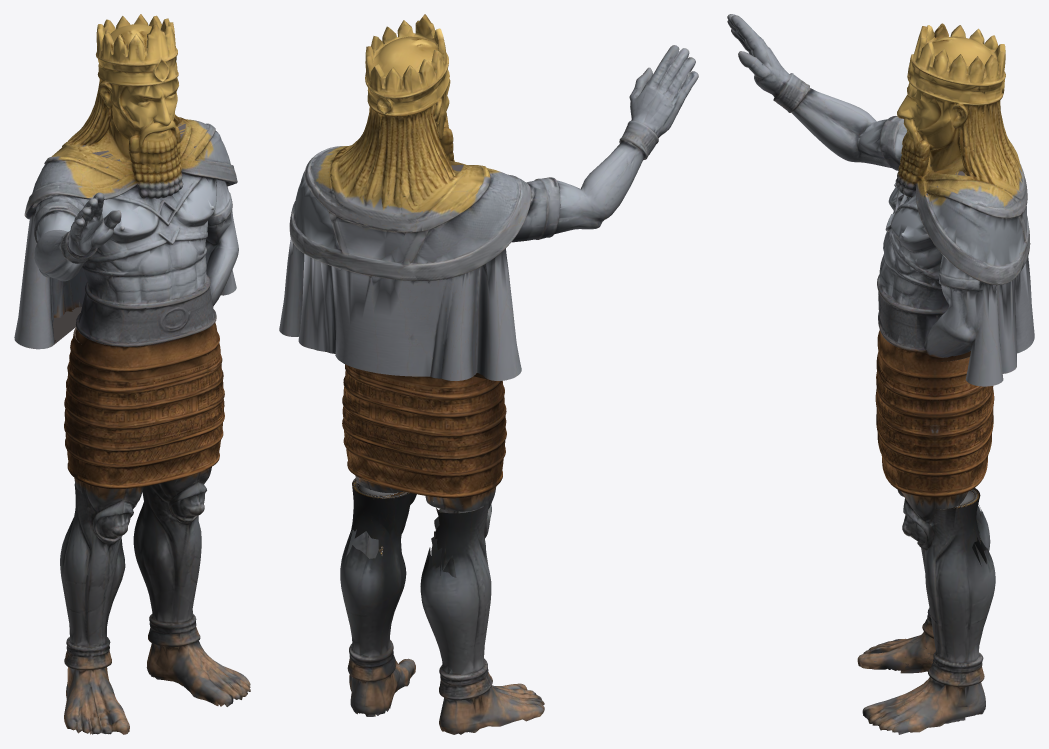
Rendered from statue_hd.glb.
The picture shows the model from 3 angles, left to right: view 1: azimuth 30°, elevation 25°; view 2: azimuth 150°, elevation 25°; view 3: azimuth 270°, elevation 25°; orthographic projection. The views are drawn at different scales.
Parts seen in each view (by area): view 1: chest_silver, belly_bronze, legs_iron, head_gold, feet_clay, chest_silver_cap; view 2: chest_silver, legs_iron, belly_bronze, head_gold, feet_clay; view 3: chest_silver, belly_bronze, head_gold, legs_iron, feet_clay.
Boxes of the visible parts, box(x1,y1,x2,y2) form: chest_silver: box(14, 117, 238, 349); belly_bronze: box(54, 306, 224, 496); legs_iron: box(60, 467, 211, 650); head_gold: box(78, 14, 198, 187); feet_clay: box(64, 614, 250, 734); chest_silver_cap: box(52, 124, 198, 342); chest_silver: box(279, 45, 698, 380); legs_iron: box(340, 476, 495, 673); belly_bronze: box(342, 364, 506, 505); head_gold: box(346, 14, 467, 205); feet_clay: box(347, 643, 544, 734); chest_silver: box(727, 14, 1034, 431); belly_bronze: box(875, 330, 994, 503); head_gold: box(897, 23, 1021, 195); legs_iron: box(897, 488, 995, 662); feet_clay: box(857, 612, 985, 734).
Bounding box in the file's own units: 0.44 × 1 × 0.4158.
1 material, 1 textured.
